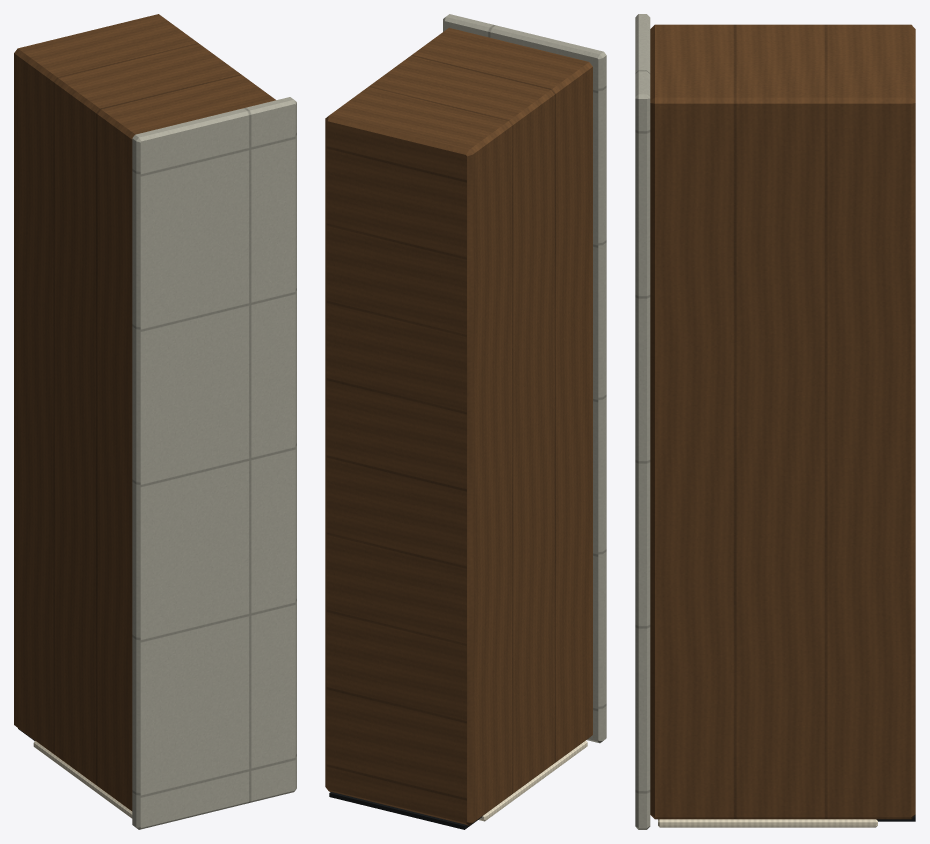
The model's file is kitchen_west.obj.
3 views of the same model, side by side, from view 1: azimuth 30°, elevation 25°; view 2: azimuth 150°, elevation 25°; view 3: azimuth 270°, elevation 25° (orthographic). The views are drawn at different scales.
Parts seen in each view (by area): view 1: kitchen_west_tile, kitchen_west_oak, kitchen_west_linen; view 2: kitchen_west_oak, kitchen_west_tile, kitchen_west_charcoal, kitchen_west_linen; view 3: kitchen_west_oak, kitchen_west_tile, kitchen_west_linen.
Part boxes in pixels (x1,y1,x2,y2): kitchen_west_tile: [132, 97, 296, 829]; kitchen_west_oak: [14, 14, 275, 811]; kitchen_west_linen: [33, 741, 132, 818]; kitchen_west_oak: [325, 28, 592, 825]; kitchen_west_tile: [443, 14, 606, 743]; kitchen_west_charcoal: [329, 792, 482, 829]; kitchen_west_linen: [479, 740, 587, 821]; kitchen_west_oak: [650, 24, 915, 819]; kitchen_west_tile: [635, 14, 650, 829]; kitchen_west_linen: [658, 819, 877, 827].
Size of the model in its own units: 26 by 108 by 37.
Materials: 5 (5 with a texture image).
